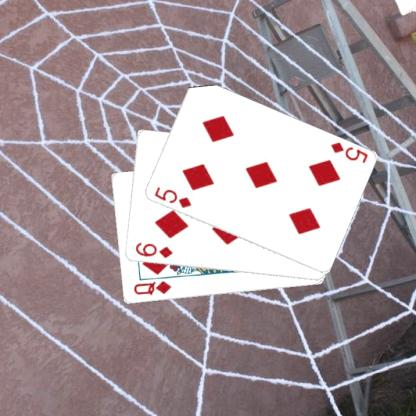5D: (151, 184, 192, 210), (328, 140, 369, 164)
6D: (132, 240, 174, 260)
QD: (130, 278, 172, 297)
